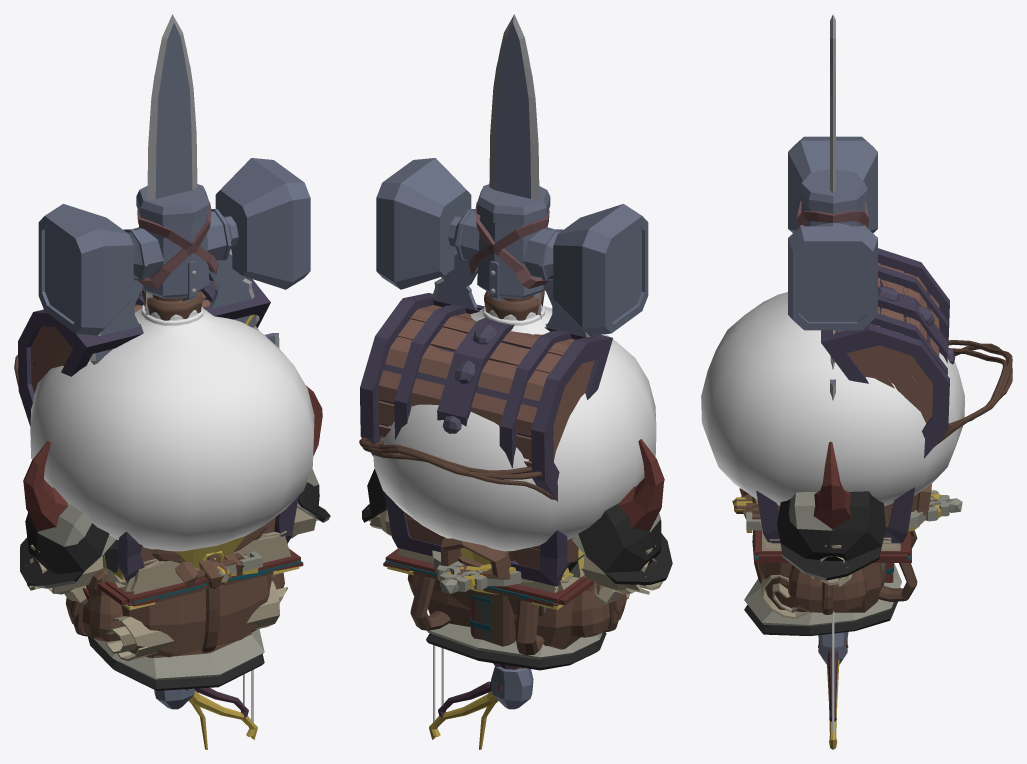
Rendered from items.glb.
The picture shows the model from 3 angles, left to right: view 1: azimuth 30°, elevation 25°; view 2: azimuth 150°, elevation 25°; view 3: azimuth 270°, elevation 25°; orthographic projection. The views are drawn at different scales.
Parts seen in each view (by area): view 1: Potion9_Filled__part, Hammer_Double__part, Potion9_Empty__part, Backpack__part, Armor_Black__part, Chest_Open__part, Sword_big__part, Armor_Metal__part, Parchment__part, Axe_Double__part, Book1_Open__part, Book4_Open__part (+9 smaller); view 2: Hammer_Double__part, Chest_Ingots__part, Potion9_Empty__part, Potion9_Filled__part, Armor_Black__part, Chest_Open__part, Sword_big__part, Backpack__part, Chest_Closed__part, Axe_Double__part, Armor_Metal__part, Book3_Closed__part (+16 smaller); view 3: Potion9_Filled__part, Hammer_Double__part, Chest_Ingots__part, Potion9_Empty__part, Armor_Black__part, Backpack__part, Armor_Metal__part, Chest_Open__part, Key3__part, Sword_big__part, Necklace3__part, Parchment__part (+5 smaller).
Boxes of the visible parts, x1=… form: Potion9_Filled__part: x1=30, y1=304, x2=314, y2=483; Hammer_Double__part: x1=38, y1=158, x2=310, y2=709; Potion9_Empty__part: x1=30, y1=295, x2=314, y2=551; Backpack__part: x1=65, y1=523, x2=284, y2=657; Armor_Black__part: x1=20, y1=385, x2=330, y2=690; Chest_Open__part: x1=20, y1=273, x2=298, y2=582; Sword_big__part: x1=145, y1=14, x2=197, y2=319; Armor_Metal__part: x1=37, y1=468, x2=318, y2=680; Parchment__part: x1=106, y1=580, x2=287, y2=660; Axe_Double__part: x1=90, y1=249, x2=259, y2=364; Book1_Open__part: x1=105, y1=542, x2=297, y2=602; Book4_Open__part: x1=115, y1=530, x2=303, y2=606; Hammer_Double__part: x1=376, y1=158, x2=648, y2=709; Chest_Ingots__part: x1=360, y1=300, x2=601, y2=586; Potion9_Empty__part: x1=373, y1=295, x2=656, y2=551; Potion9_Filled__part: x1=380, y1=304, x2=656, y2=483; Armor_Black__part: x1=362, y1=439, x2=672, y2=670; Chest_Open__part: x1=375, y1=293, x2=612, y2=583; Sword_big__part: x1=489, y1=14, x2=541, y2=319; Backpack__part: x1=407, y1=574, x2=626, y2=655; Chest_Closed__part: x1=384, y1=492, x2=557, y2=586; Axe_Double__part: x1=432, y1=249, x2=590, y2=666; Armor_Metal__part: x1=386, y1=507, x2=660, y2=659; Book3_Closed__part: x1=474, y1=591, x2=515, y2=646; Potion9_Filled__part: x1=701, y1=292, x2=964, y2=453; Hammer_Double__part: x1=788, y1=136, x2=877, y2=664; Chest_Ingots__part: x1=760, y1=248, x2=955, y2=543; Potion9_Empty__part: x1=701, y1=398, x2=964, y2=505; Armor_Black__part: x1=744, y1=441, x2=900, y2=635; Backpack__part: x1=752, y1=497, x2=917, y2=614; Armor_Metal__part: x1=744, y1=492, x2=901, y2=626; Chest_Open__part: x1=756, y1=264, x2=943, y2=542; Key3__part: x1=734, y1=490, x2=962, y2=530; Sword_big__part: x1=830, y1=14, x2=835, y2=192; Necklace3__part: x1=938, y1=348, x2=1007, y2=442; Parchment__part: x1=761, y1=574, x2=809, y2=618.
Size of the model in its own units: 1.54 by 3.67 by 1.48.
